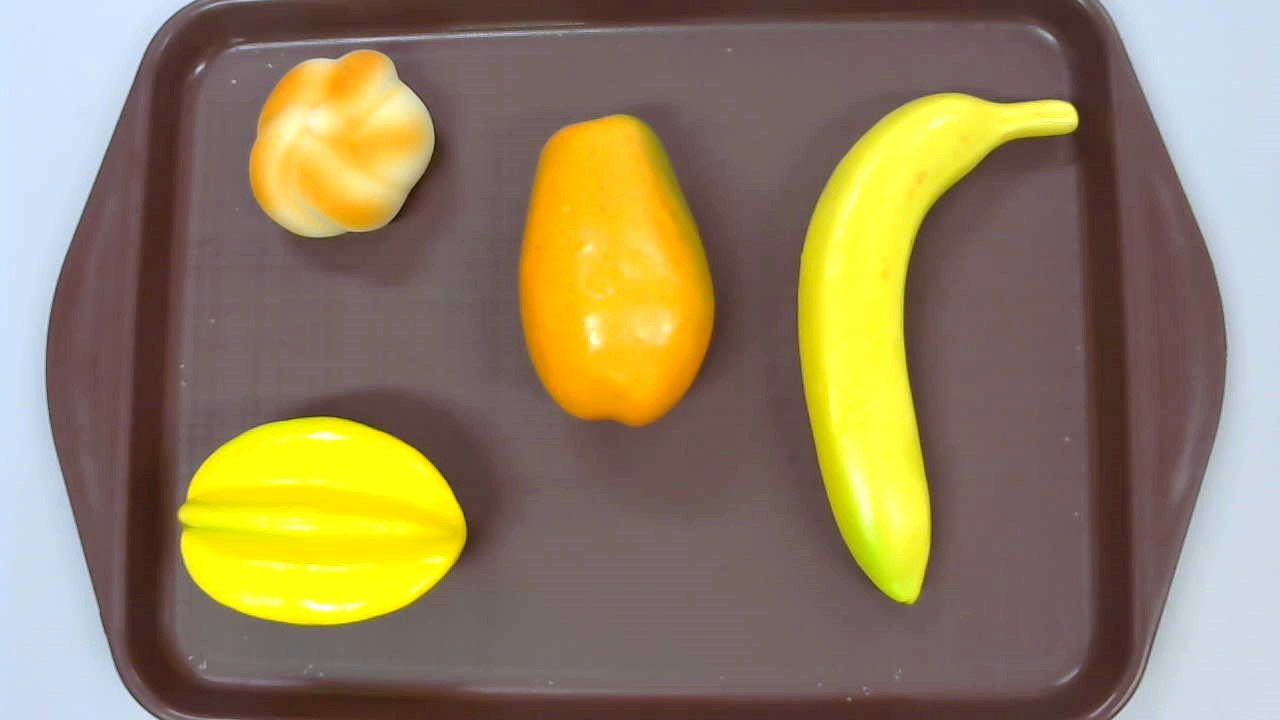banana: (797, 92, 1078, 603)
papya: (517, 112, 716, 428)
star fruit: (175, 414, 469, 627)
twist bread: (247, 48, 436, 239)
